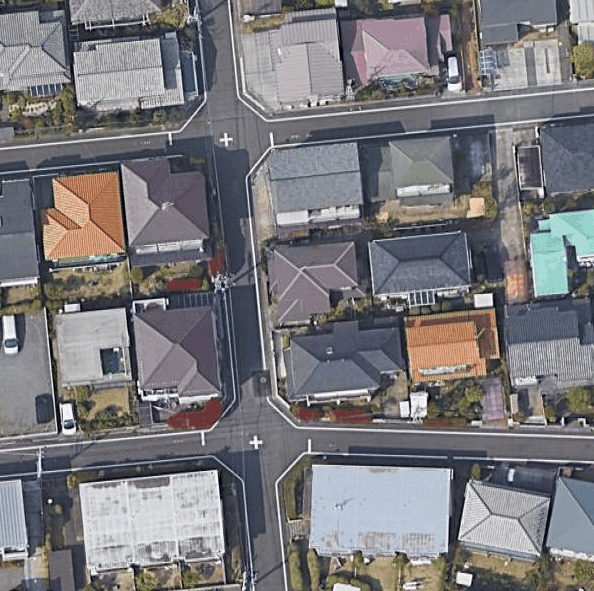flatroof: (70, 457, 238, 575)
